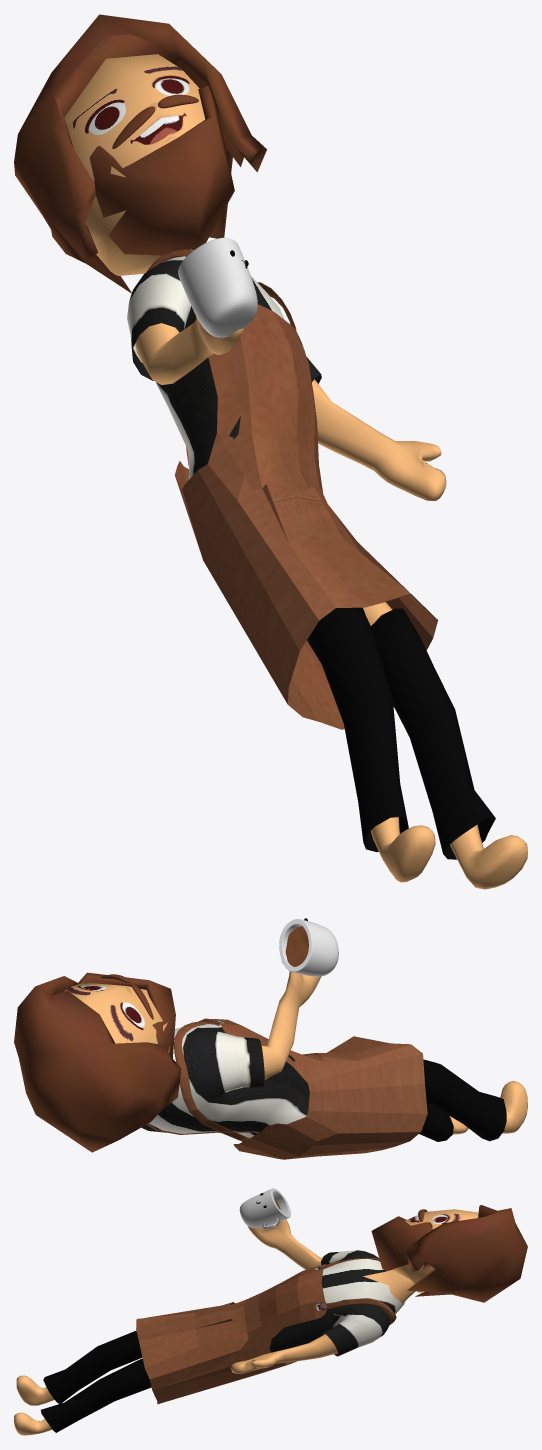
The model's file is FilkARman2022.glb.
The picture shows the model from 3 angles, top to bottom: view 1: azimuth 30°, elevation 25°; view 2: azimuth 150°, elevation 25°; view 3: azimuth 270°, elevation 25°; orthographic projection. The views are drawn at different scales.
Parts seen in each view (by area): view 1: Cube.002_4, Cube_2; view 2: Cube.002_4, Cube_2, Plane_3; view 3: Cube.002_4, Cube_2.
Boxes of the visible parts, x1,y1,x2,y2 form: Cube.002_4: (14,14,527,889); Cube_2: (178,237,257,337); Cube.002_4: (14,971,527,1159); Cube_2: (279,919,338,976); Plane_3: (285,926,308,966); Cube.002_4: (14,1205,527,1435); Cube_2: (239,1188,290,1227).
Bounding box in the file's own units: 0.1601 × 0.282 × 0.521.
8 materials, 4 textured.
